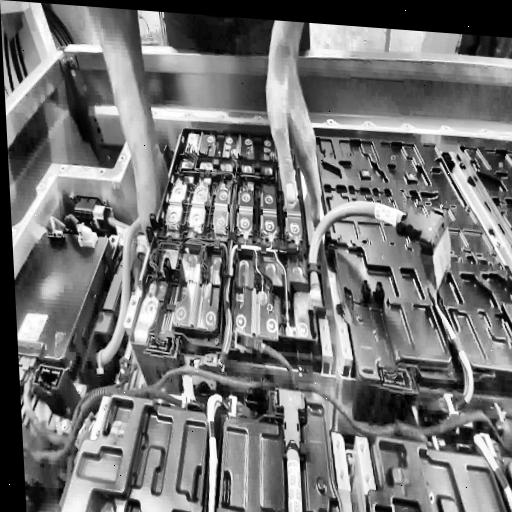high_volt_cable: (307, 196, 454, 314), (93, 204, 146, 366)
low_volt_cable: (20, 352, 455, 451), (166, 149, 286, 365), (438, 312, 512, 512)
